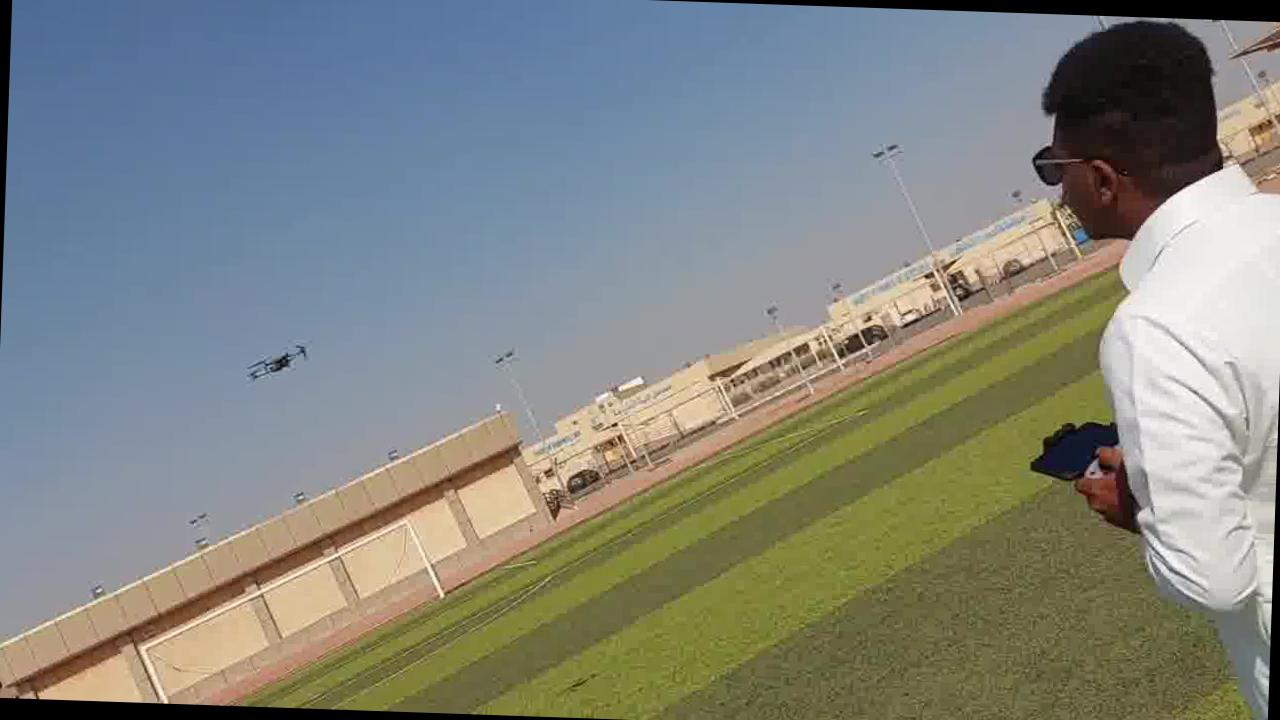drone: (238, 336, 320, 384)
